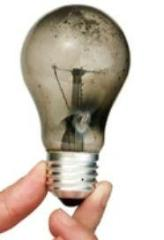lightbulb: (20, 4, 130, 206)
